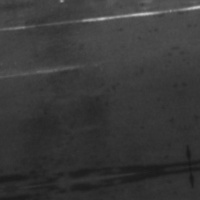scratches: (0, 3, 170, 37), (0, 61, 86, 82)
